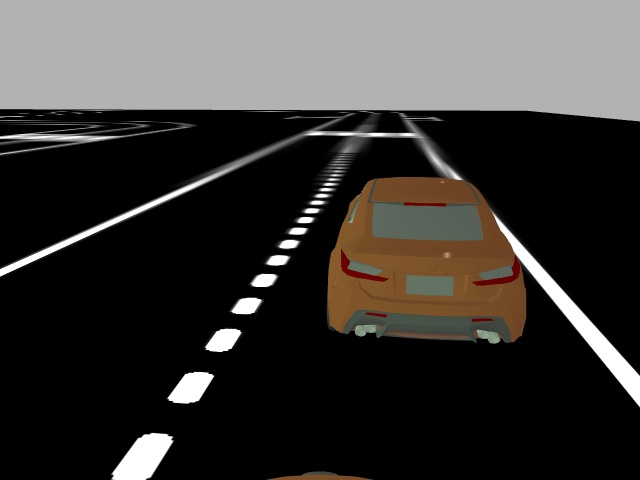obstacle_car: (324, 172, 530, 345)
